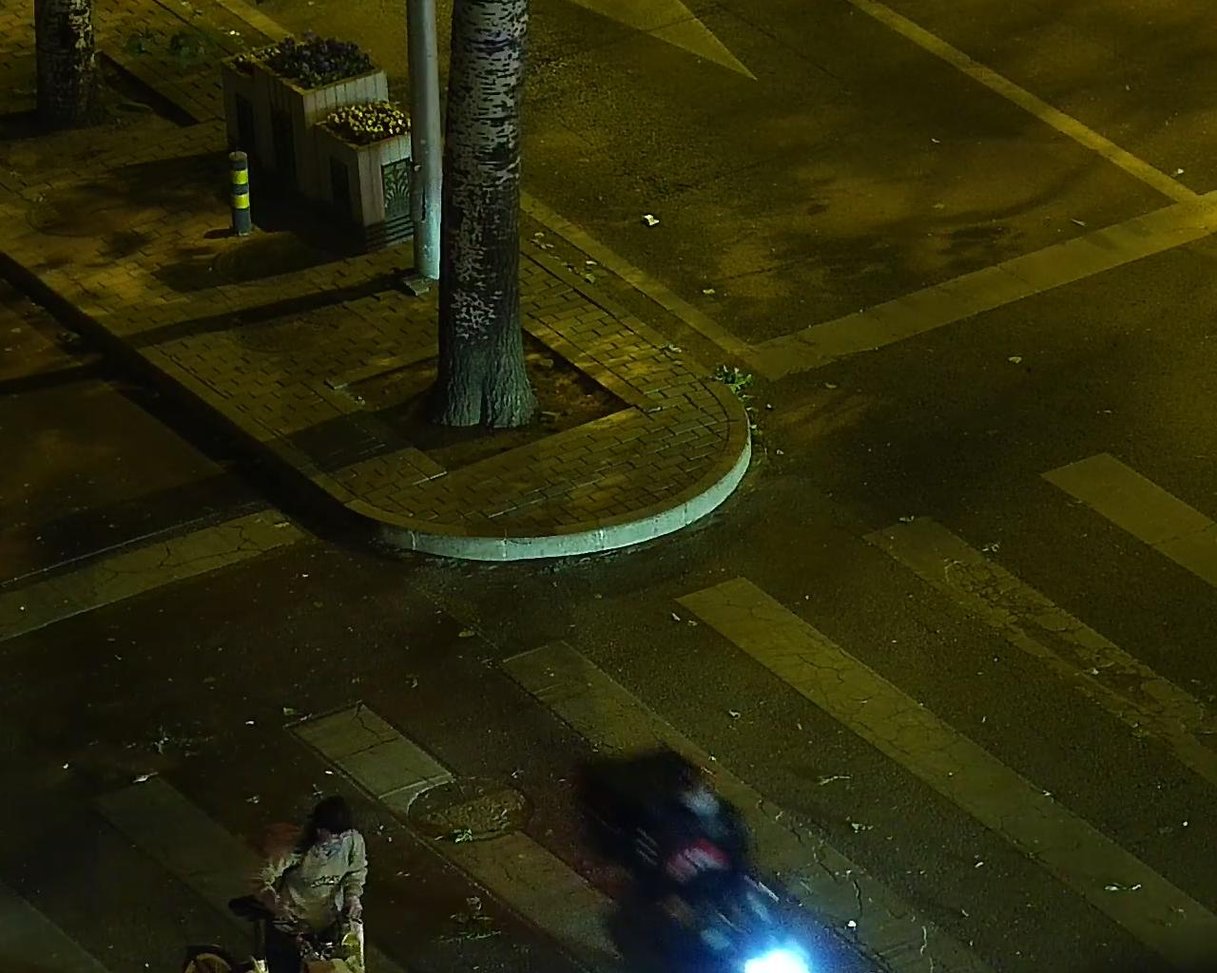person: (639, 749, 759, 966), (238, 784, 358, 973)
